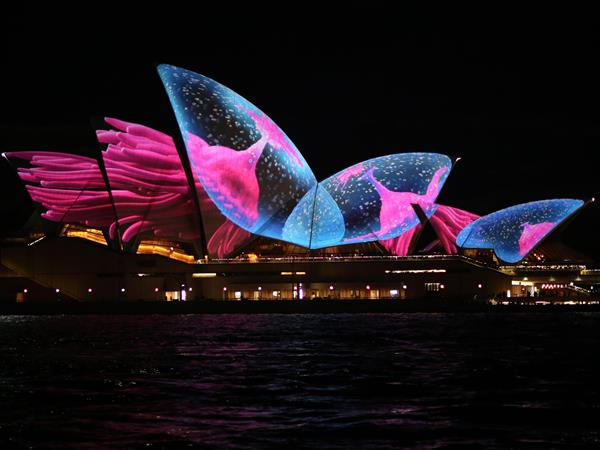opera house: (8, 40, 597, 289)
